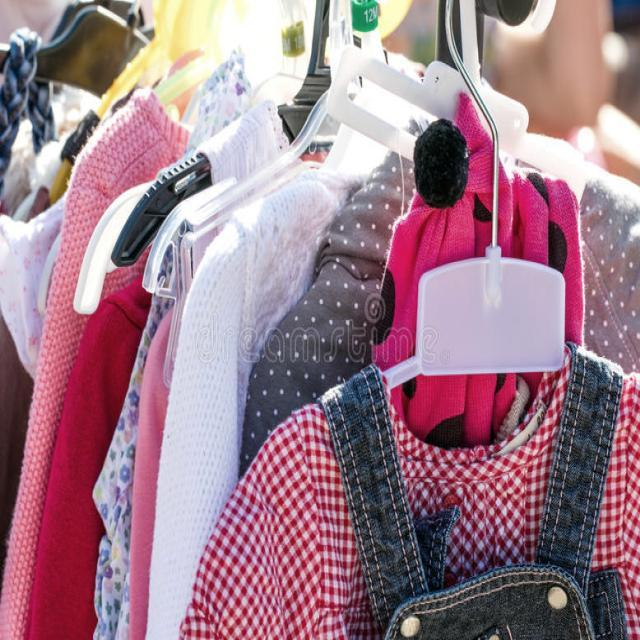clothes: (68, 205, 393, 633)
